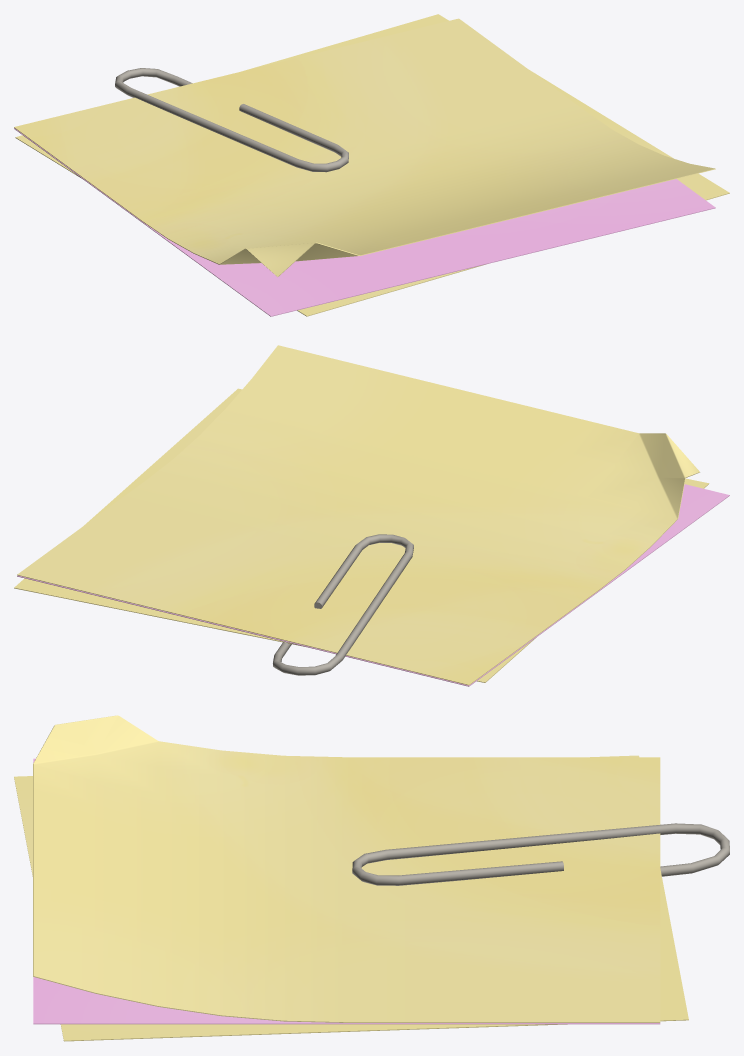
The model's file is notes.glb.
3 renders of one model, top to bottom at view 1: azimuth 30°, elevation 25°; view 2: azimuth 150°, elevation 25°; view 3: azimuth 270°, elevation 25°, orthographic. The views are drawn at different scales.
Visible parts, largest first — view 1: Plane.004, Plane.003; view 2: Plane.004, Plane.003; view 3: Plane.004, Plane.003.
Boxes of the visible parts, x1=… form: Plane.004: x1=14, y1=14, x2=729, y2=316; Plane.003: x1=115, y1=68, x2=348, y2=172; Plane.004: x1=14, y1=345, x2=729, y2=686; Plane.003: x1=273, y1=534, x2=413, y2=675; Plane.004: x1=14, y1=715, x2=688, y2=1041; Plane.003: x1=352, y1=823, x2=729, y2=885.
Size of the model in its own units: 4.03 by 0.5173 by 4.27.
1 material, 1 textured.
